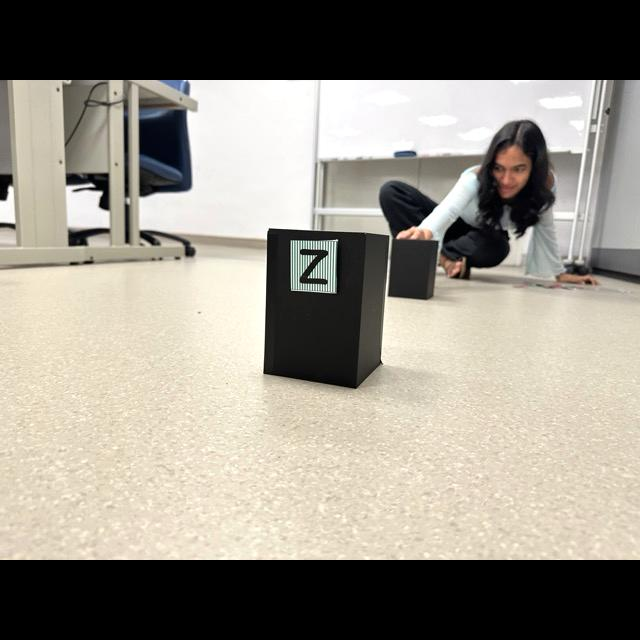Z: (299, 249, 329, 284)
